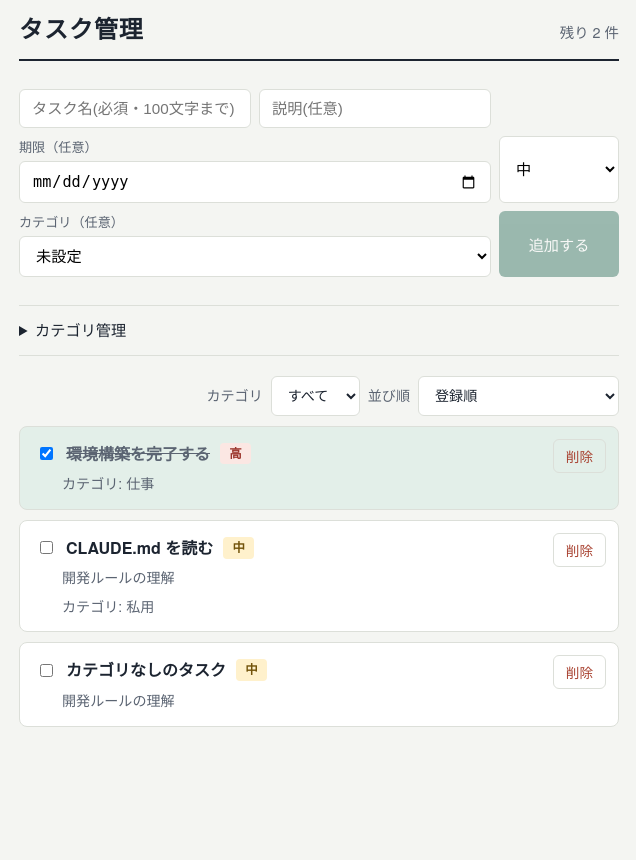
Test: App › カテゴリの重複登録エラーを表示する
Expected: the text "環境構築を完了する" is shown, [66,441,210,466]
Click the heading "カテゴリ管理": (81, 330) [35,319,126,340]
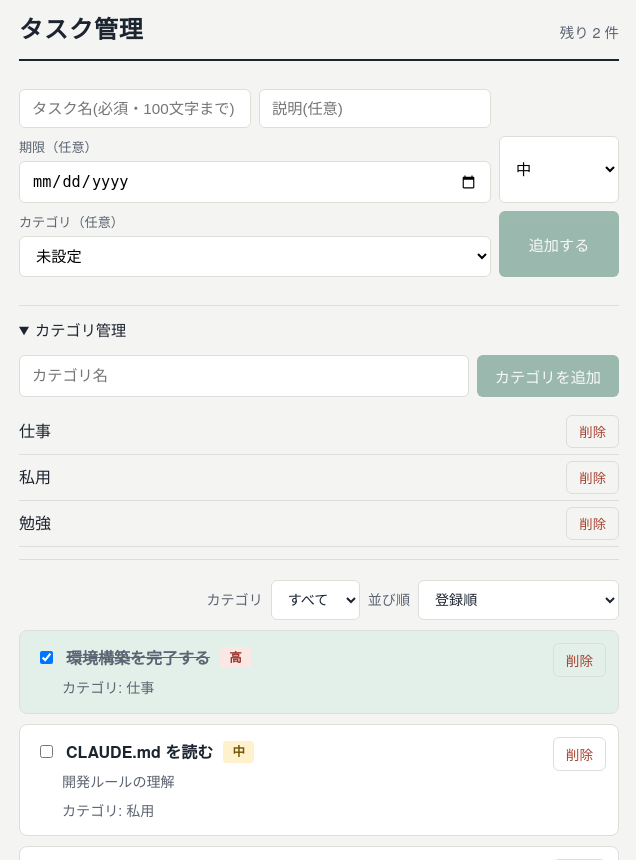
In the field labelled "カテゴリ名": (244, 376) [19,355,469,397], type "仕事"
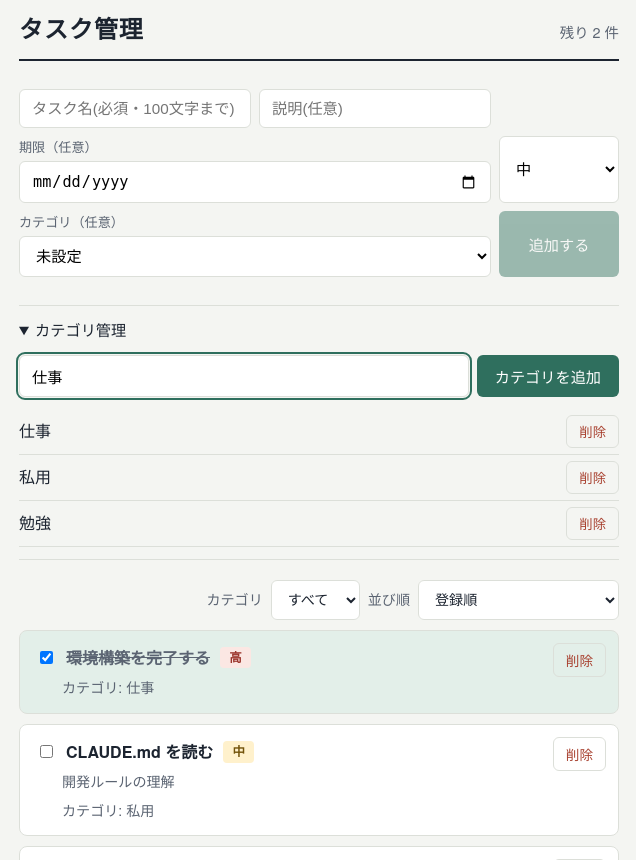
Click the button "カテゴリを追加": (548, 376) [477,355,619,397]
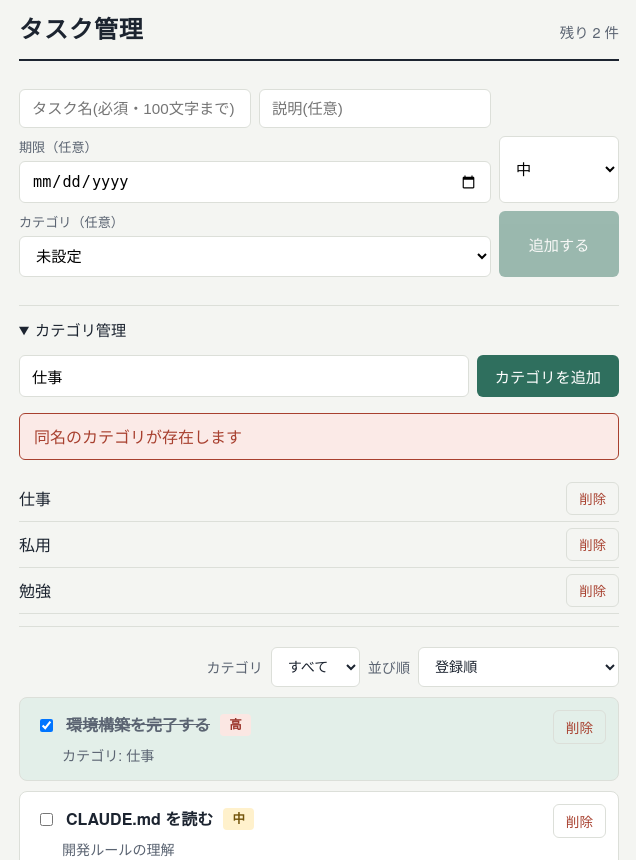
Now the message reads "同名のカテゴリが存在します", box [34,425,242,448]
